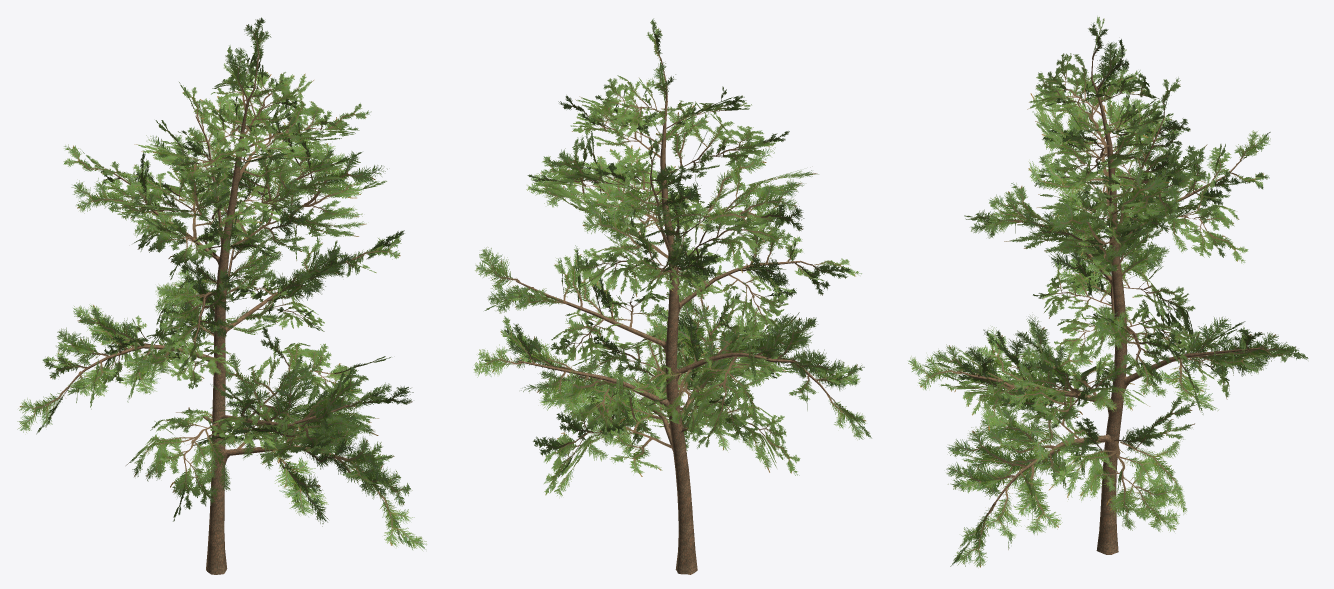
3 renders of one model, left to right at view 1: azimuth 30°, elevation 25°; view 2: azimuth 150°, elevation 25°; view 3: azimuth 270°, elevation 25°, orthographic. The views are drawn at different scales.
Visible parts, largest first — view 1: Pine_small_3_LOD0_Clusters_Mat_0; view 2: Pine_small_3_LOD0_Clusters_Mat_0; view 3: Pine_small_3_LOD0_Clusters_Mat_0.
Part boxes in pixels (bbox=[...]): Pine_small_3_LOD0_Clusters_Mat_0: bbox=[17, 17, 426, 574]; Pine_small_3_LOD0_Clusters_Mat_0: bbox=[473, 18, 871, 574]; Pine_small_3_LOD0_Clusters_Mat_0: bbox=[908, 16, 1308, 567].
Bounding box in the file's own units: 3.61 × 4.65 × 3.15.
